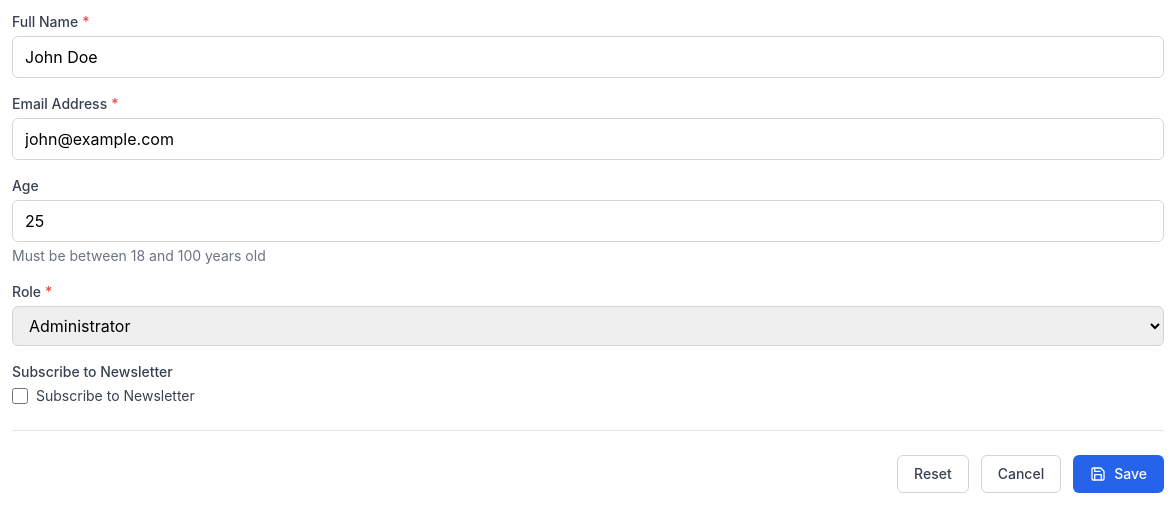
Test: SimpleForm › handles form reset
Replace the text in the field labelled "Full Name*" with "Modified Name" at (588, 57), box [12,36,1164,78]
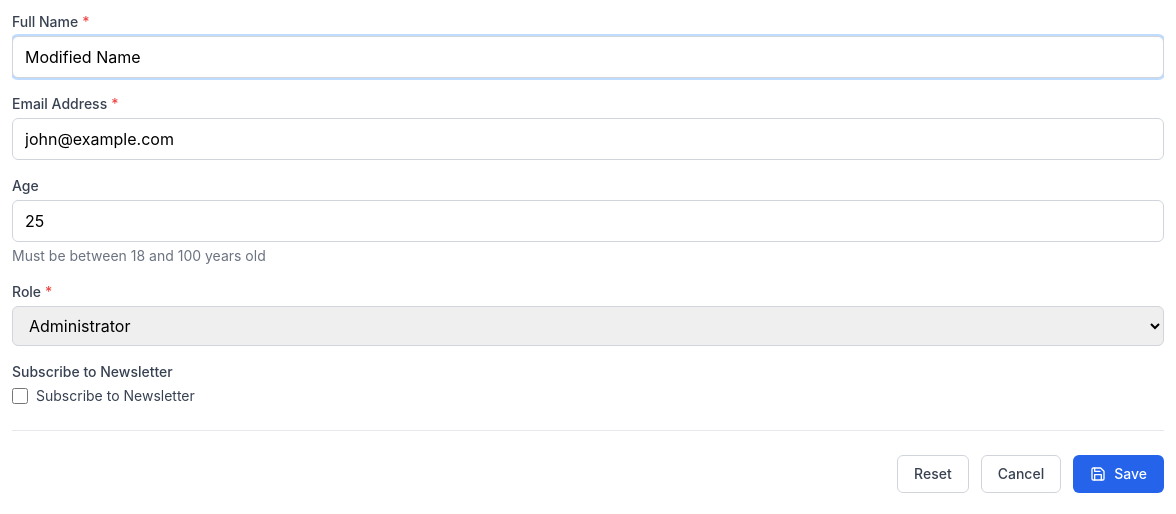
Click the button "Reset" at (933, 474), box [897,455,969,493]
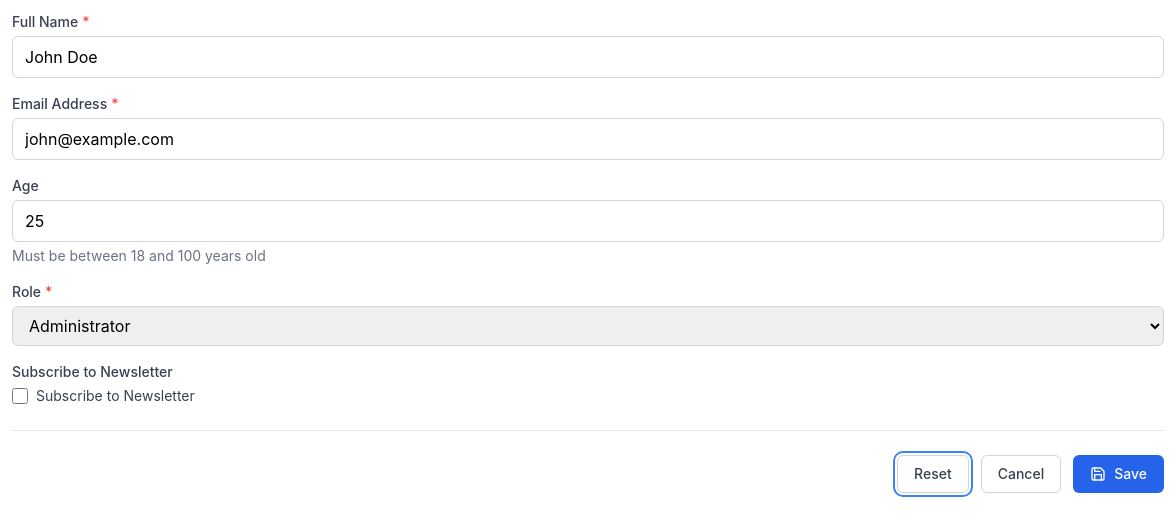
Check: the field labelled "Full Name*" holds "John Doe", box [12,36,1164,78]
